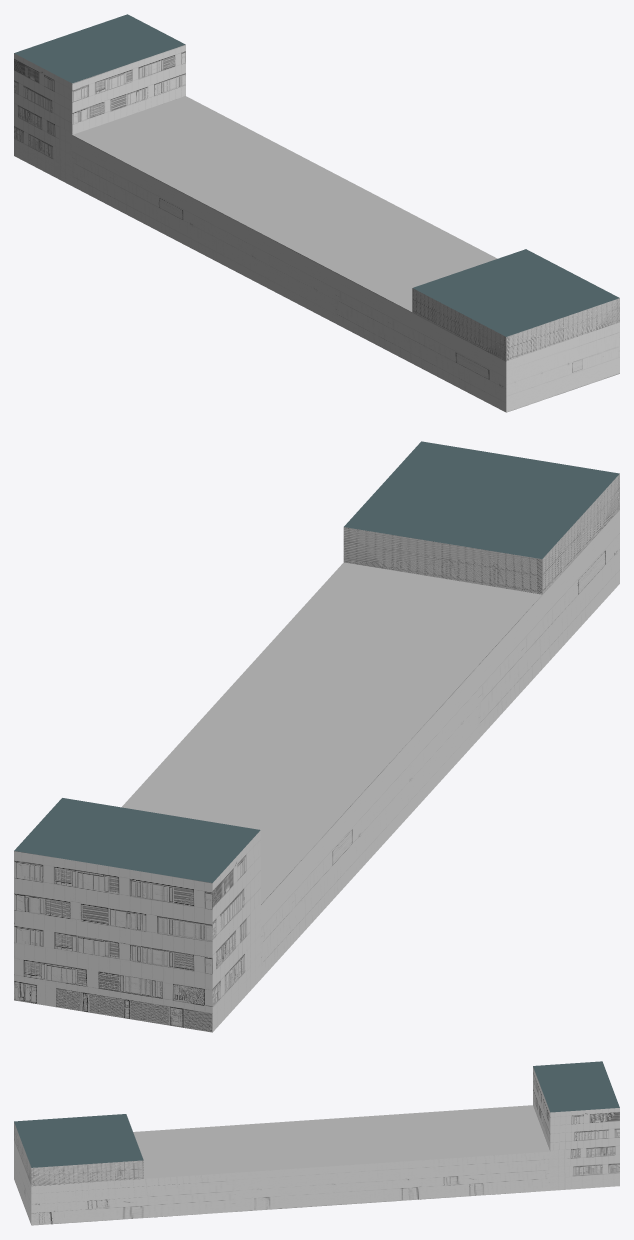
Rendered from 1Georg-Schumann-Str7a.gltf.
3 renders of one model, top to bottom at view 1: azimuth 30°, elevation 25°; view 2: azimuth 150°, elevation 25°; view 3: azimuth 270°, elevation 25°, orthographic. The views are drawn at different scales.
Visible parts, largest first — view 1: Dach.1; view 2: Dach.1; view 3: Dach.1.
Part boxes in pixels (x1=…): Dach.1: x1=14, y1=14, x2=619, y2=412; Dach.1: x1=14, y1=441, x2=619, y2=1032; Dach.1: x1=14, y1=1061, x2=619, y2=1225.
Size of the model in its own units: 44.73 by 19 by 133.
Materials: 8 (6 with a texture image).
